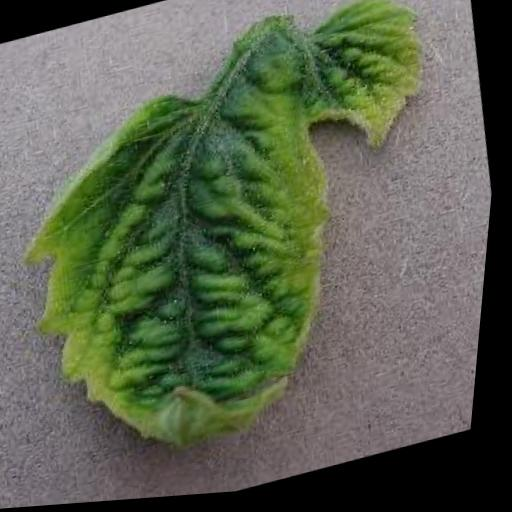Yellow Leaf Curl Virus: (0, 0, 501, 492)
